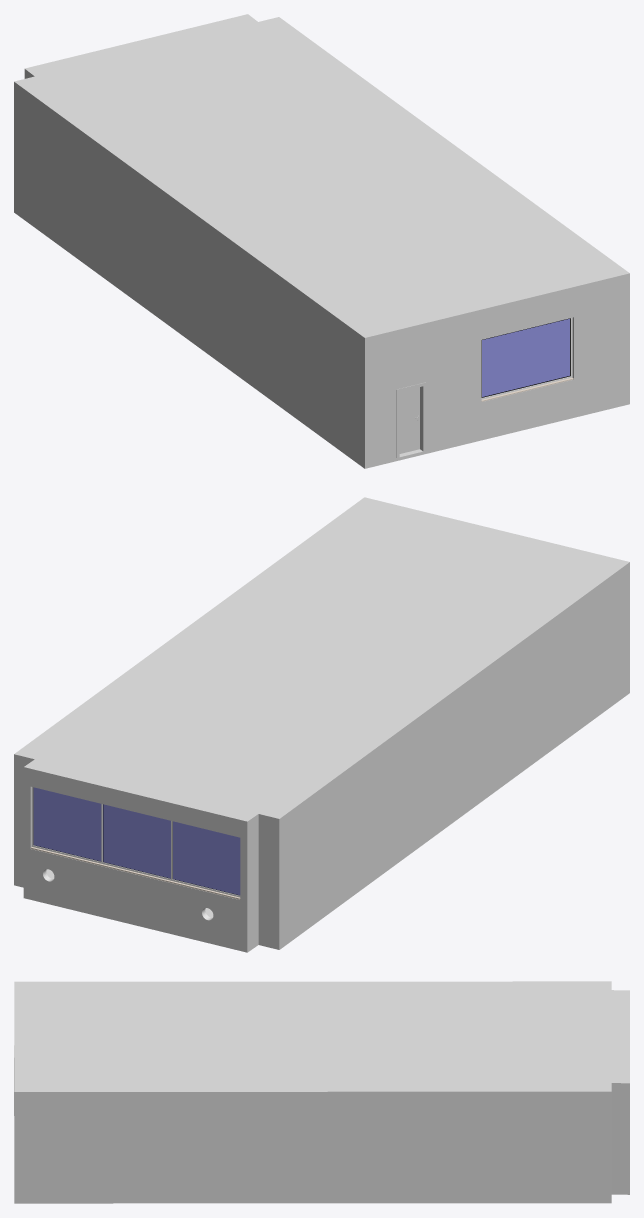
Rendered from Laboratorio.fbx.
3 views of the same model, one above another, from view 1: azimuth 30°, elevation 25°; view 2: azimuth 150°, elevation 25°; view 3: azimuth 270°, elevation 25° (orthographic). The views are drawn at different scales.
Parts seen in each view (by area): view 1: Teto, Paredes, Window.001, Piso, Panel, Porta; view 2: Teto, Paredes, Window, Piso; view 3: Teto, Paredes, Piso.
Part boxes in pixels (x1,y1,x2,y2): Teto: [14, 14, 629, 340]; Paredes: [14, 72, 629, 465]; Window.001: [481, 317, 573, 401]; Piso: [14, 209, 629, 468]; Panel: [399, 387, 419, 453]; Porta: [396, 382, 426, 457]; Teto: [14, 497, 629, 824]; Paredes: [14, 565, 629, 949]; Window: [31, 787, 240, 899]; Piso: [14, 690, 629, 952]; Teto: [14, 981, 629, 1094]; Paredes: [14, 1085, 629, 1200]; Piso: [14, 1192, 629, 1203].
Size of the model in its own units: 891 by 420 by 2101.
